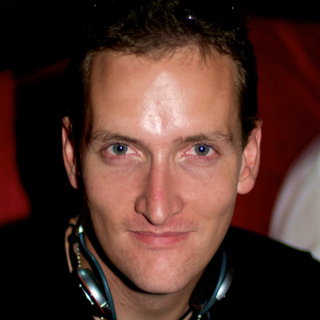eye: (96, 138, 148, 169), (171, 136, 224, 165)
